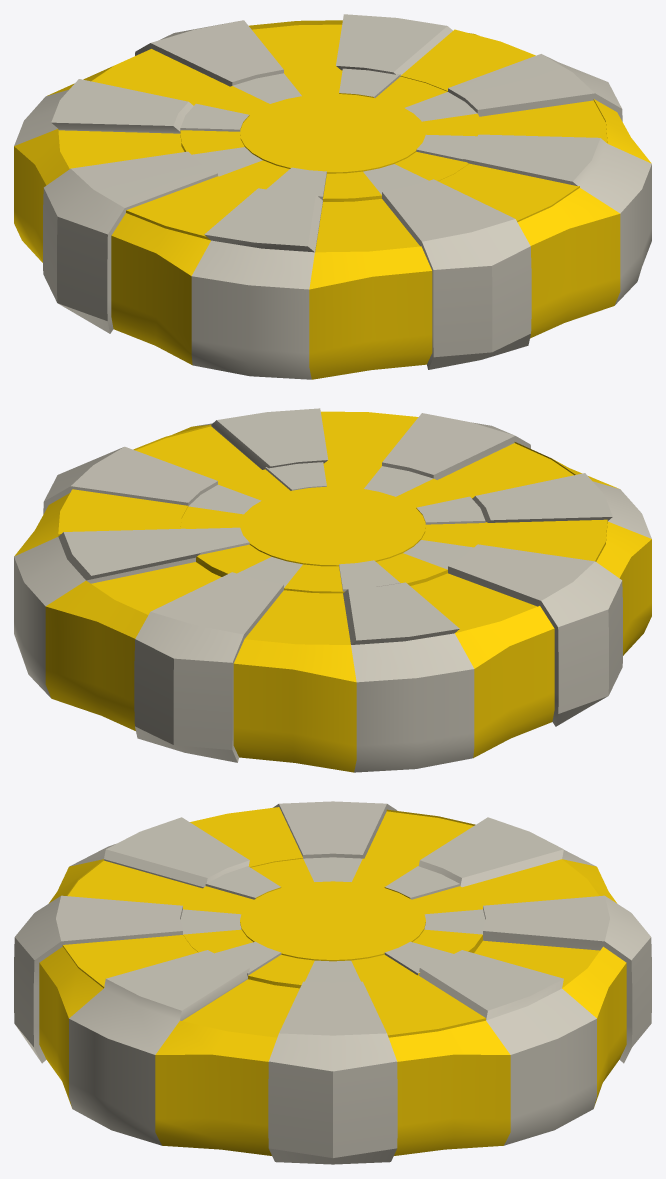
File: Ring5.glb
3 renders of one model, top to bottom at view 1: azimuth 30°, elevation 25°; view 2: azimuth 150°, elevation 25°; view 3: azimuth 270°, elevation 25°, orthographic.
Parts seen in each view (by area): view 1: ring; view 2: ring; view 3: ring.
Part boxes in pixels (x1=…): ring: x1=14, y1=14, x2=651, y2=379; ring: x1=14, y1=408, x2=651, y2=772; ring: x1=14, y1=801, x2=651, y2=1164.
Bounding box in the file's own units: 0.3853 × 0.0814 × 0.3853.
